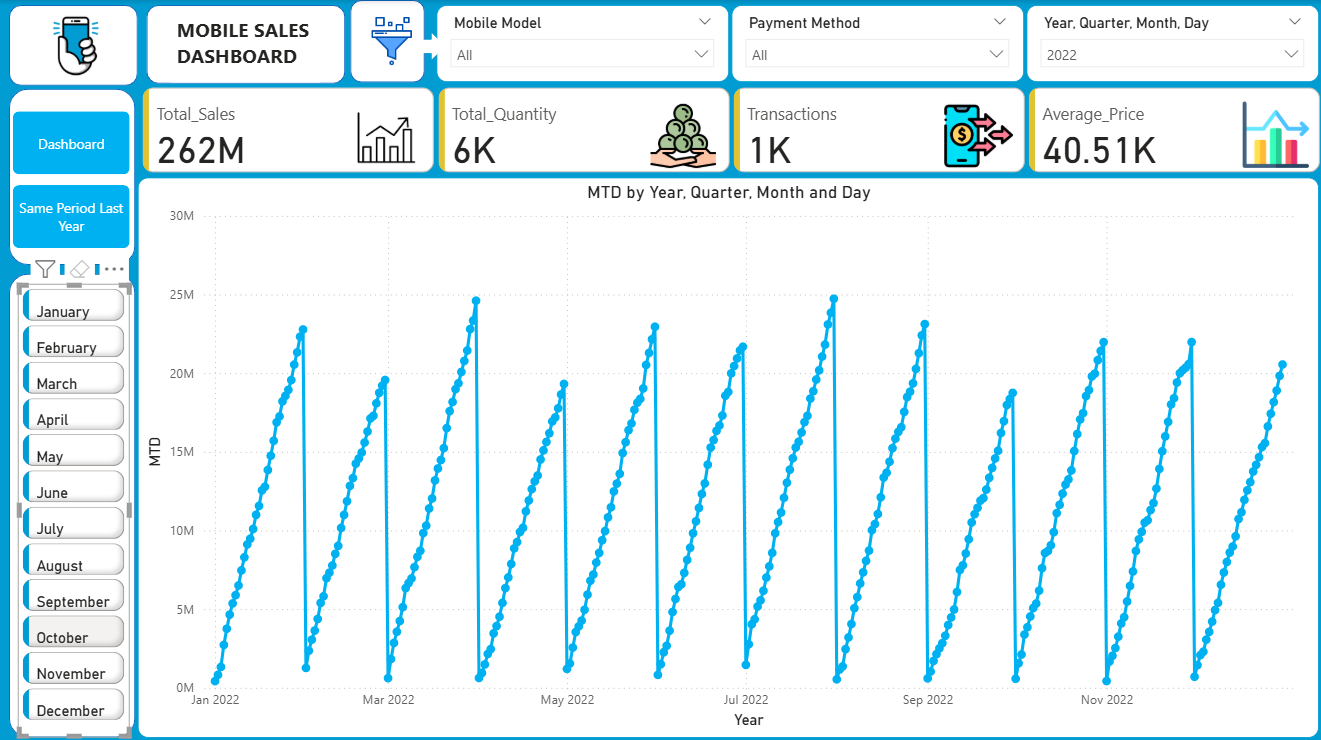

The page's visual inventory and layout, read from the dashboard file:
{"tool":"powerbi","page":{"name":"MTD Report","canvas":[1280,720],"ordinal":1},"visuals":[{"type":"shape","box":[9.7,4.8,124.3,78],"z":0},{"type":"image","box":[27.7,2.4,92,83],"z":1000},{"type":"cardVisual","fields":{"Data":["Sales_Data.Total_Sales","Sales_Data.Total_Quantity","Sales_Data.Transactions","Sales_Data.Average_Price"]},"box":[133.9,79.6,1146.1,92.9],"z":2000},{"type":"slicer","fields":{"Values":["Sales_Data.Mobile Model"]},"box":[422.3,4.8,282,74.8],"z":3000},{"type":"slicer","fields":{"Values":["Sales_Data.Payment Method"]},"box":[707,4.8,282,74.8],"z":4000},{"type":"slicer","fields":{"Values":["Custom_Calendar.Date.Variation.Date Hierarchy.Year","Custom_Calendar.Date.Variation.Date Hierarchy.Quarter","Custom_Calendar.Date.Variation.Date Hierarchy.Month","Custom_Calendar.Date.Variation.Date Hierarchy.Day"]},"box":[991.7,4.8,282,74.8],"z":5000},{"type":"shape","box":[339,0,72,79.6],"z":6000},{"type":"image","box":[346.2,10.9,65.1,57.9],"z":7000},{"type":"shape","box":[401.7,31.4,29,26.5],"z":8000},{"type":"shape","box":[142.4,4.8,191.8,76],"z":9000},{"type":"textbox","box":[166.5,10.9,143.6,68.8],"z":10000},{"type":"shape","box":[9.7,85.7,121.9,170.1],"z":11000},{"type":"lineChart","fields":{"Category":["Custom_Calendar.Date.Variation.Date Hierarchy.Year","Custom_Calendar.Date.Variation.Date Hierarchy.Quarter","Custom_Calendar.Date.Variation.Date Hierarchy.Month","Custom_Calendar.Date.Variation.Date Hierarchy.Day"],"Y":["Sales_Data.MTD"]},"box":[133.9,171.3,1140.1,540.5],"z":12000},{"type":"shape","box":[9.7,264.2,121.9,447.6],"z":13000},{"type":"advancedSlicerVisual","fields":{"Values":["Custom_Calendar.Date.Variation.Date Hierarchy.Month"]},"box":[18.1,273.9,108.6,437.9],"z":14000},{"type":"pageNavigator","box":[13.3,107.4,113.4,133.9],"z":14001}]}

Visuals, with their boxes in screenshot pixels (x1, y1, x2, y2), scaled from the page's 1280x720 canvas onto the 1321x740 screenshot:
shape: {"left": 10, "top": 5, "right": 138, "bottom": 85}
image: {"left": 29, "top": 2, "right": 124, "bottom": 88}
cardVisual - Sales_Data.Total_Sales x Sales_Data.Total_Quantity: {"left": 138, "top": 82, "right": 1320, "bottom": 177}
slicer - Sales_Data.Mobile Model: {"left": 436, "top": 5, "right": 727, "bottom": 82}
slicer - Sales_Data.Payment Method: {"left": 730, "top": 5, "right": 1021, "bottom": 82}
slicer - Custom_Calendar.Date.Variation.Date Hierarchy.Year x Custom_Calendar.Date.Variation.Date Hierarchy.Quarter: {"left": 1023, "top": 5, "right": 1314, "bottom": 82}
shape: {"left": 350, "top": 0, "right": 424, "bottom": 82}
image: {"left": 357, "top": 11, "right": 424, "bottom": 71}
shape: {"left": 415, "top": 32, "right": 444, "bottom": 60}
shape: {"left": 147, "top": 5, "right": 345, "bottom": 83}
textbox: {"left": 172, "top": 11, "right": 320, "bottom": 82}
shape: {"left": 10, "top": 88, "right": 136, "bottom": 263}
lineChart - Custom_Calendar.Date.Variation.Date Hierarchy.Year x Custom_Calendar.Date.Variation.Date Hierarchy.Quarter: {"left": 138, "top": 176, "right": 1315, "bottom": 732}
shape: {"left": 10, "top": 272, "right": 136, "bottom": 732}
advancedSlicerVisual - Custom_Calendar.Date.Variation.Date Hierarchy.Month: {"left": 19, "top": 282, "right": 131, "bottom": 732}
pageNavigator: {"left": 14, "top": 110, "right": 131, "bottom": 248}
